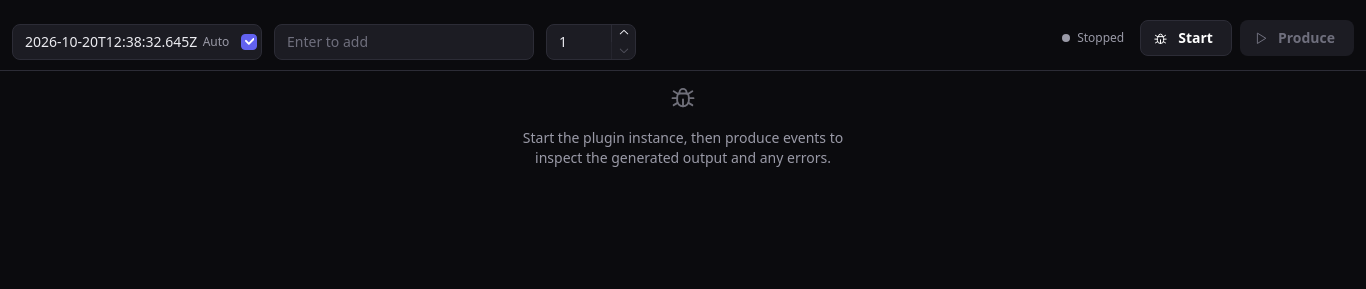
Test: DebuggerTab › reports a failure against the event it happened on
Click the button "Start" at (1186, 38), box [1140, 20, 1232, 56]
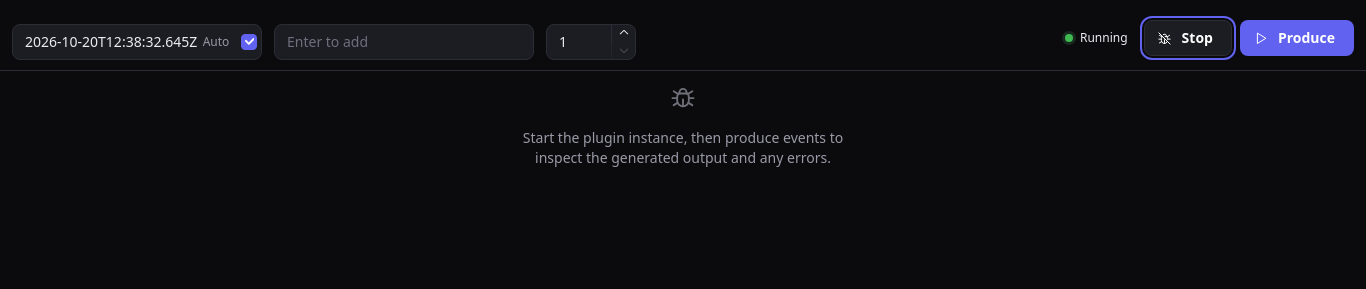
Click the button "Produce" at (1297, 38), box [1240, 20, 1354, 56]
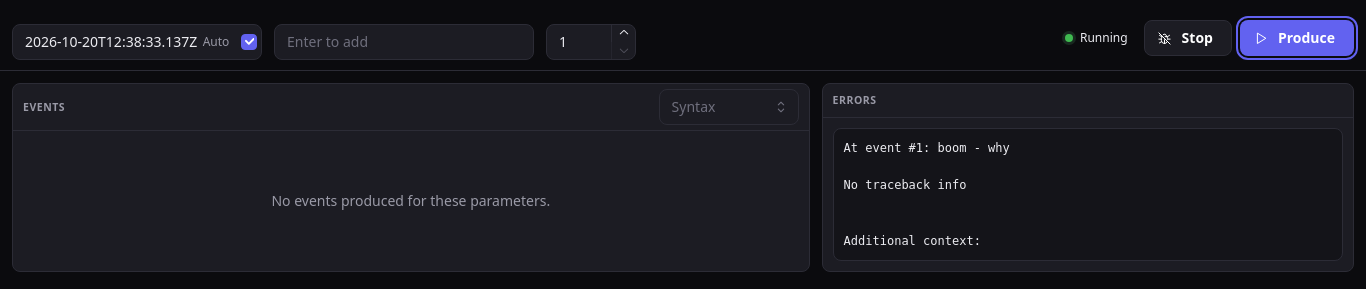
Check: the text "At event #1: boom" is shown, box [844, 141, 1010, 155]
